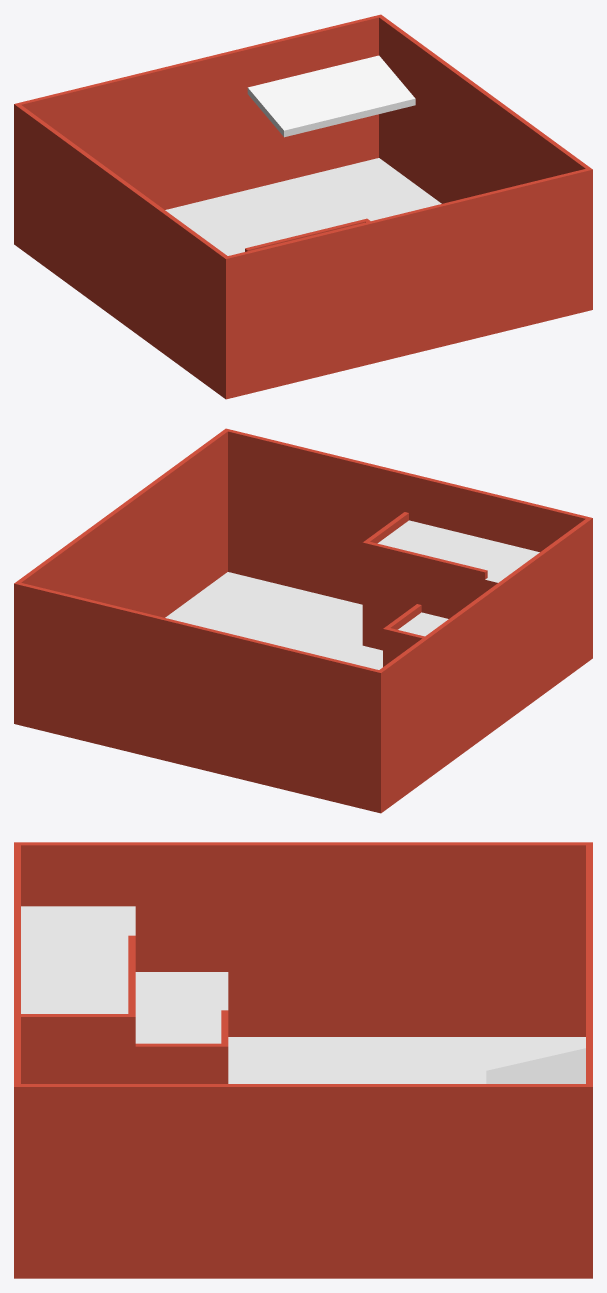
The model's file is TestRoom.fbx.
The picture shows the model from 3 angles, top to bottom: view 1: azimuth 30°, elevation 25°; view 2: azimuth 150°, elevation 25°; view 3: azimuth 270°, elevation 25°; orthographic projection. The views are drawn at different scales.
Visible parts, largest first — view 1: Plane__1_; view 2: Plane__1_; view 3: Plane__1_.
Boxes of the visible parts, x1=… form: Plane__1_: x1=14, y1=14, x2=592, y2=399; Plane__1_: x1=14, y1=428, x2=592, y2=813; Plane__1_: x1=14, y1=842, x2=592, y2=1278.
Size of the model in its own units: 4000 by 1461 by 4000.
